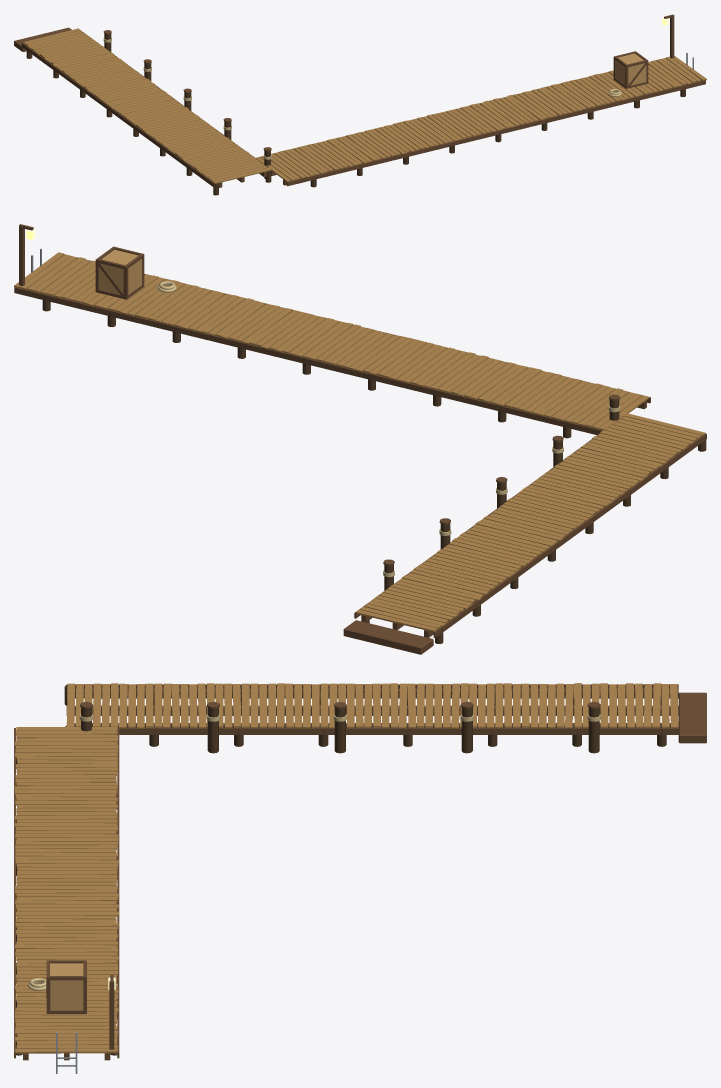
File: tf-dock.glb
3 renders of one model, top to bottom at view 1: azimuth 30°, elevation 25°; view 2: azimuth 150°, elevation 25°; view 3: azimuth 270°, elevation 25°, orthographic. The views are drawn at different scales.
Parts seen in each view (by area): view 1: tf-dock; view 2: tf-dock; view 3: tf-dock.
Boxes of the visible parts, x1,y1,x2,y2 form: tf-dock: [14, 14, 706, 195]; tf-dock: [14, 224, 706, 654]; tf-dock: [14, 683, 706, 1073].
Size of the model in its own units: 30.95 by 3.5 by 24.57.
